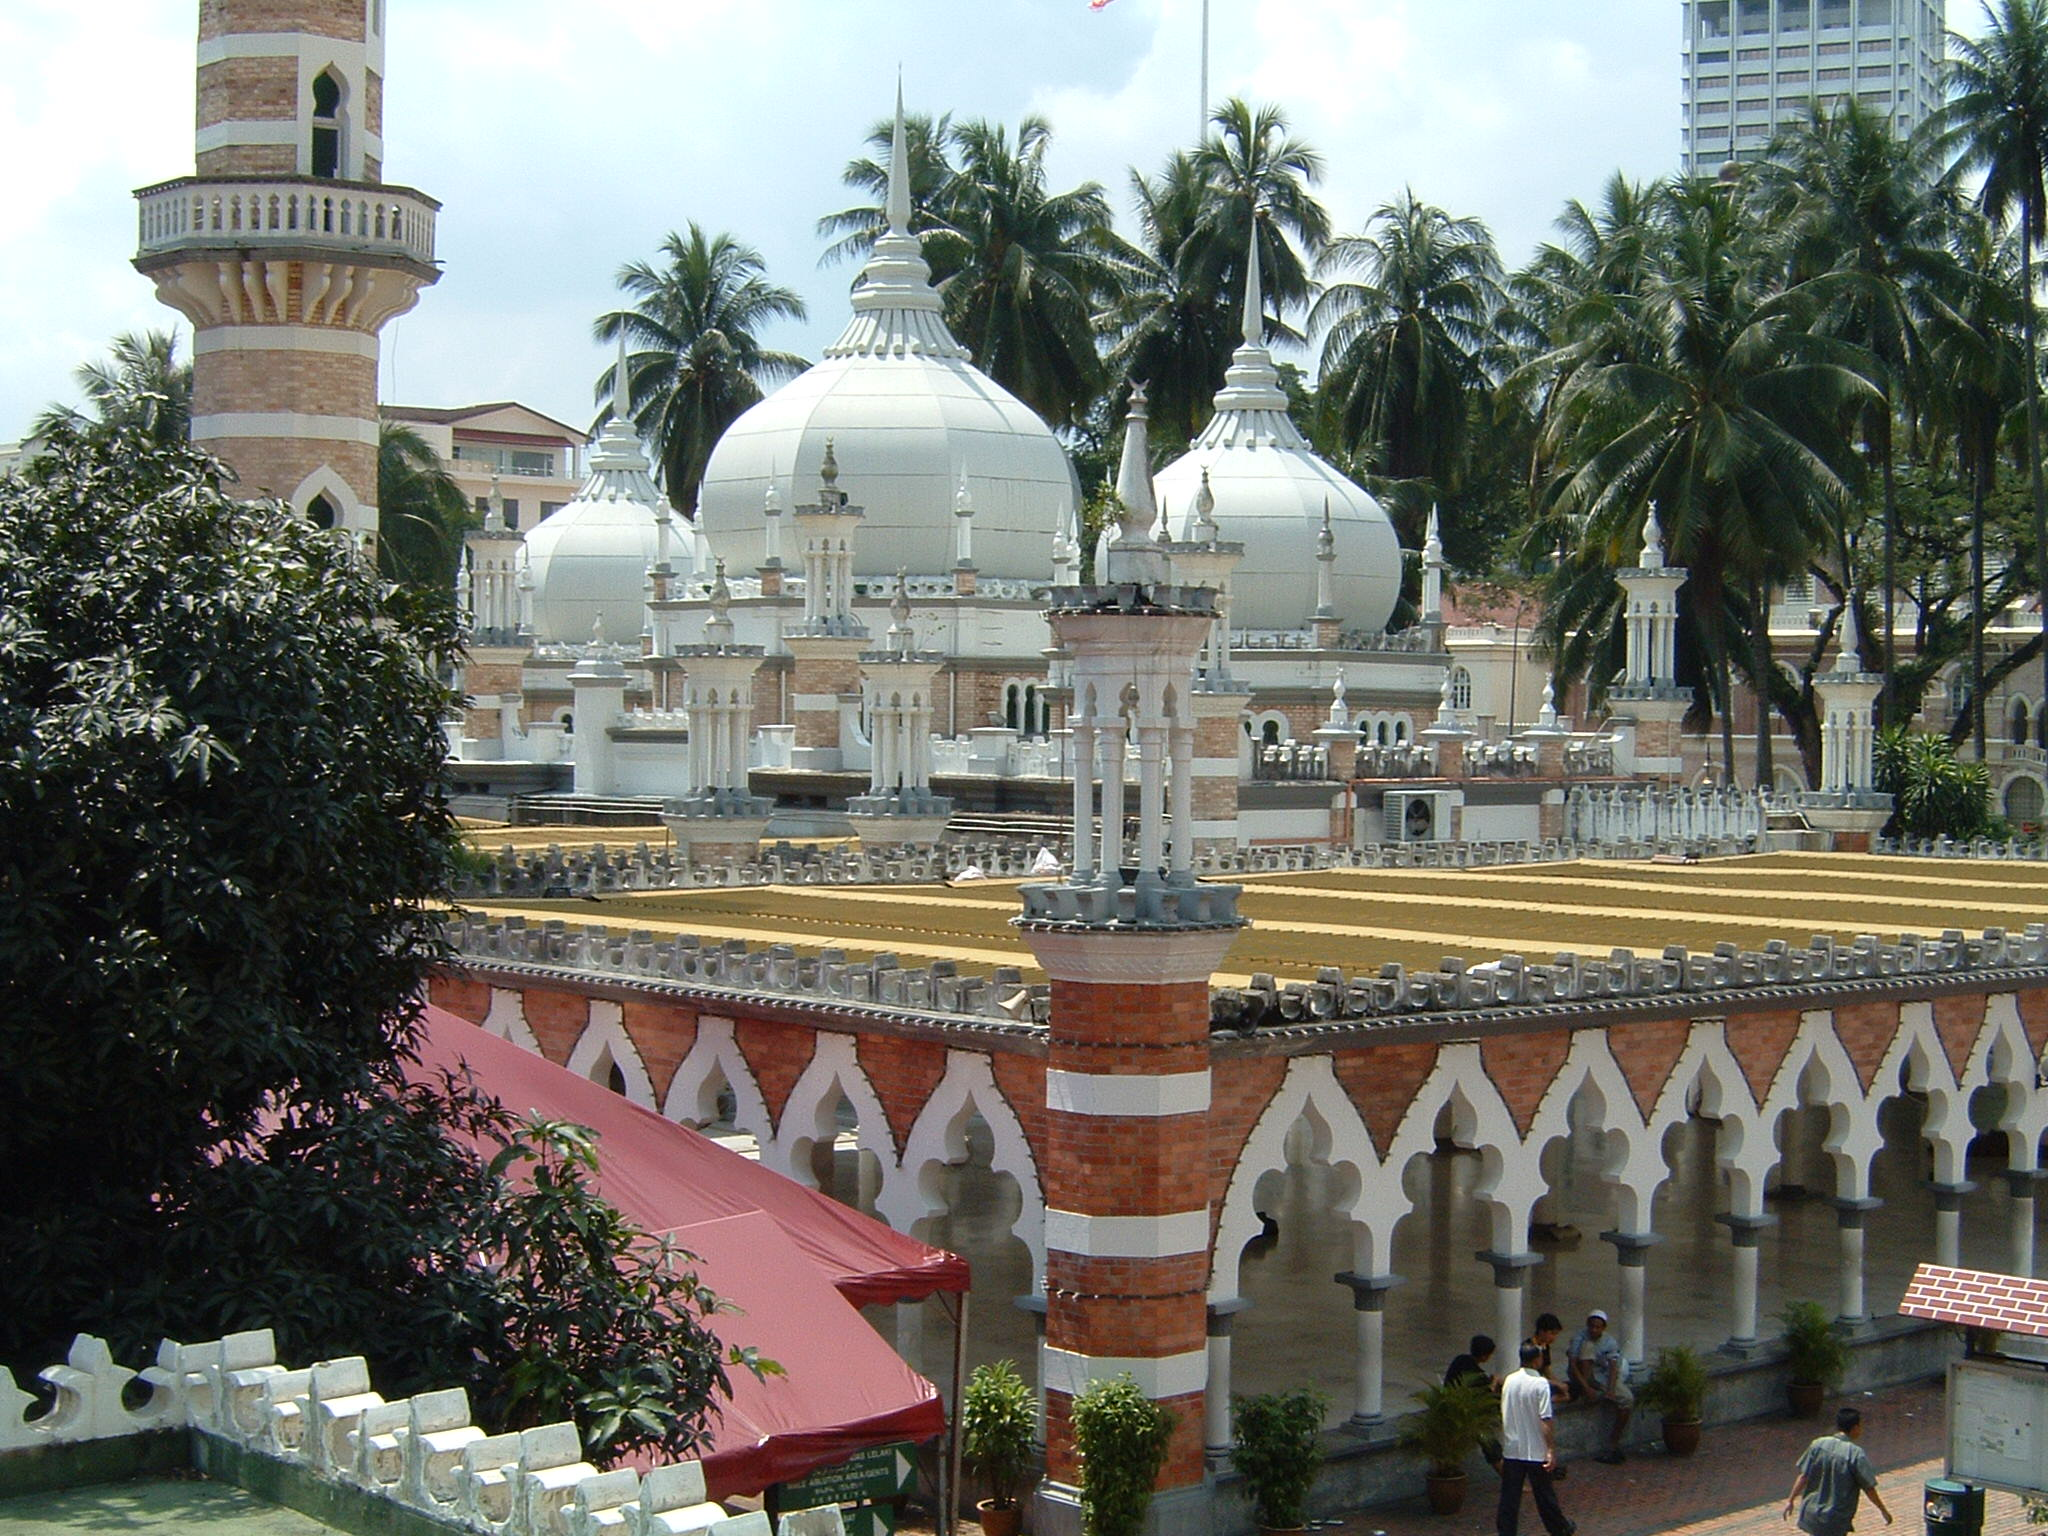Mosque: (106, 6, 1866, 887)
